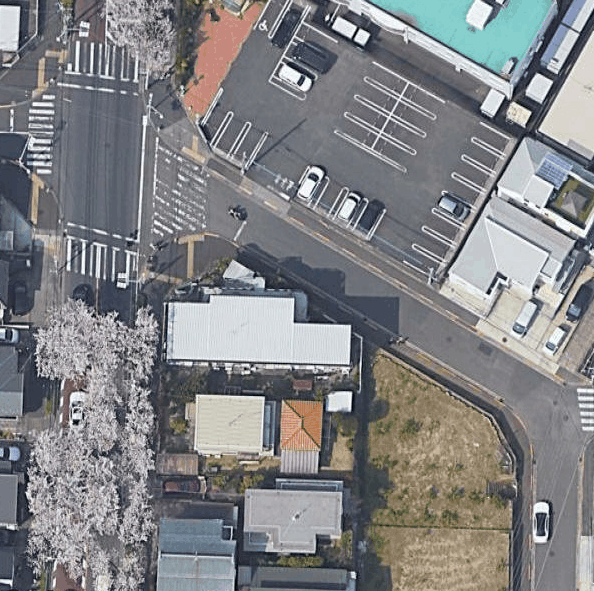facility: (416, 0, 547, 56)
